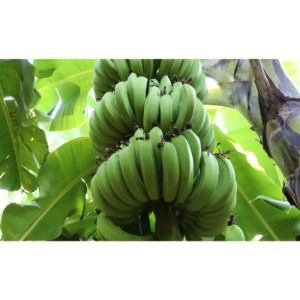banana_brain food: (84, 88, 209, 225)
